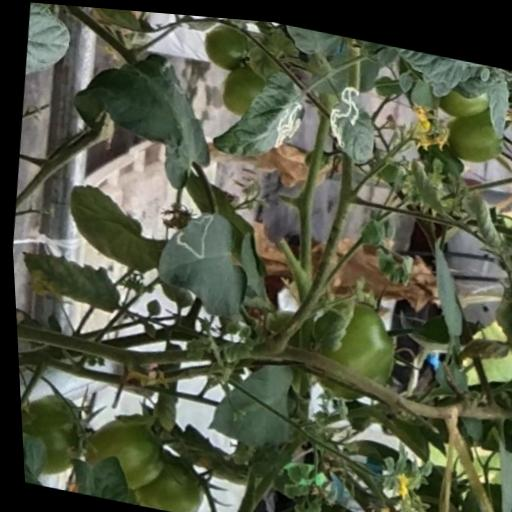Leaf_Miner: (146, 196, 263, 330), (203, 52, 316, 170), (314, 69, 384, 161)
